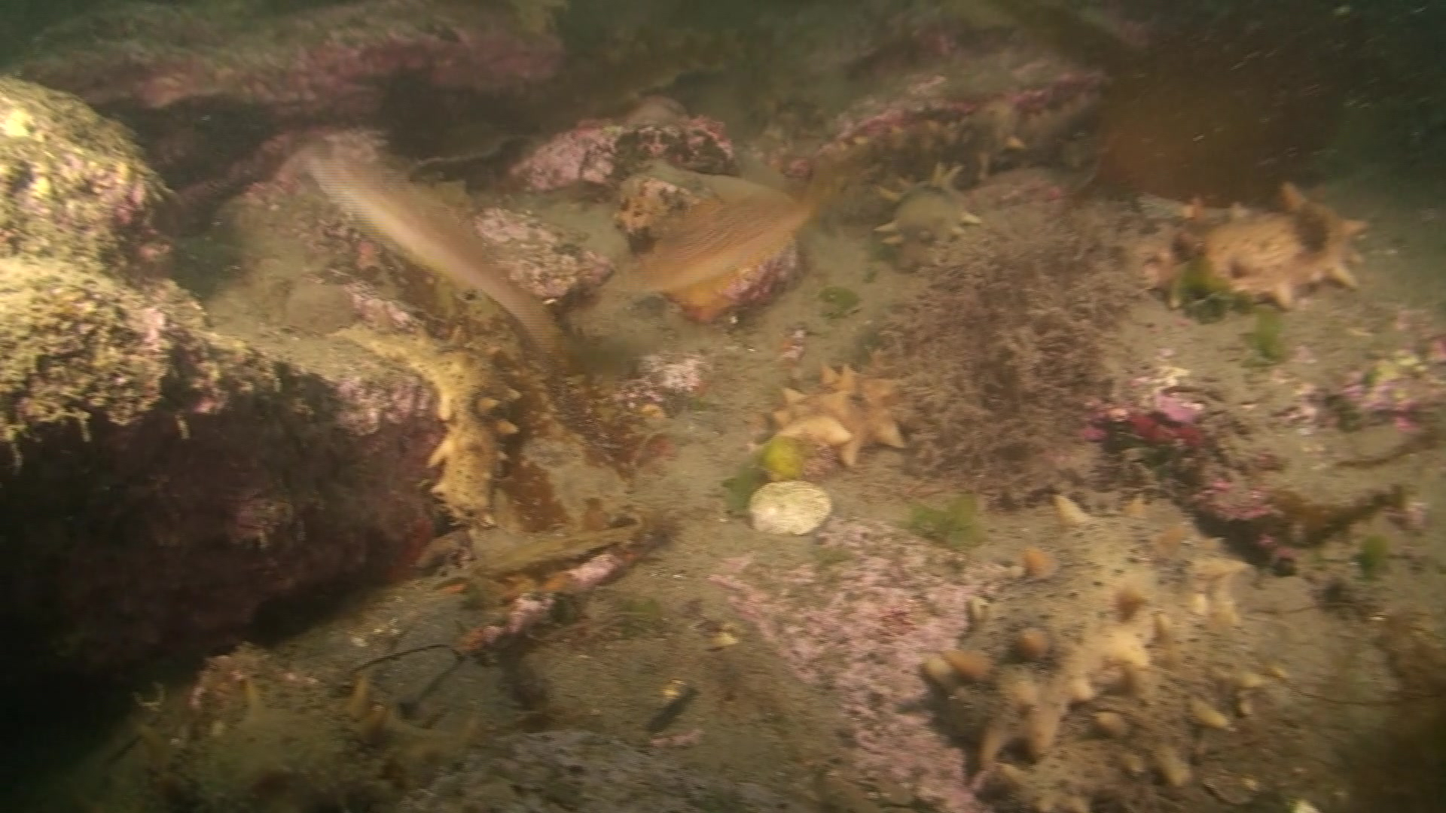echinus: (929, 493, 1247, 758), (999, 610, 1268, 813), (376, 325, 522, 528), (1155, 179, 1377, 304), (776, 370, 938, 473), (868, 160, 982, 256)
